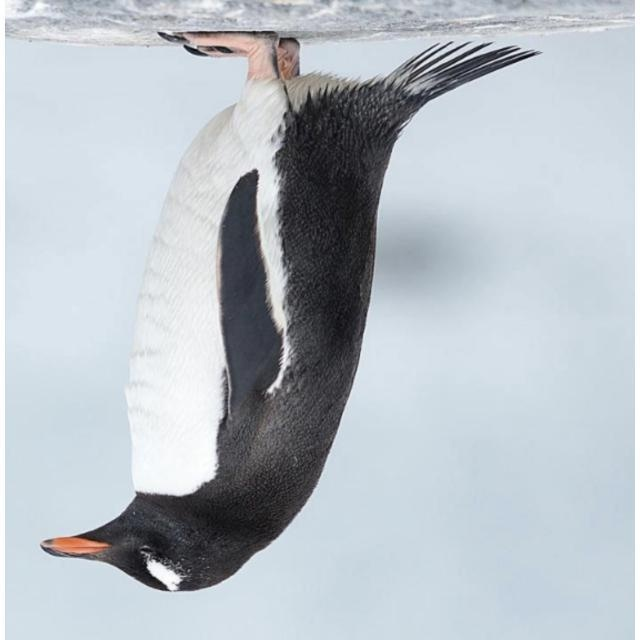penguin: (35, 29, 544, 597)
